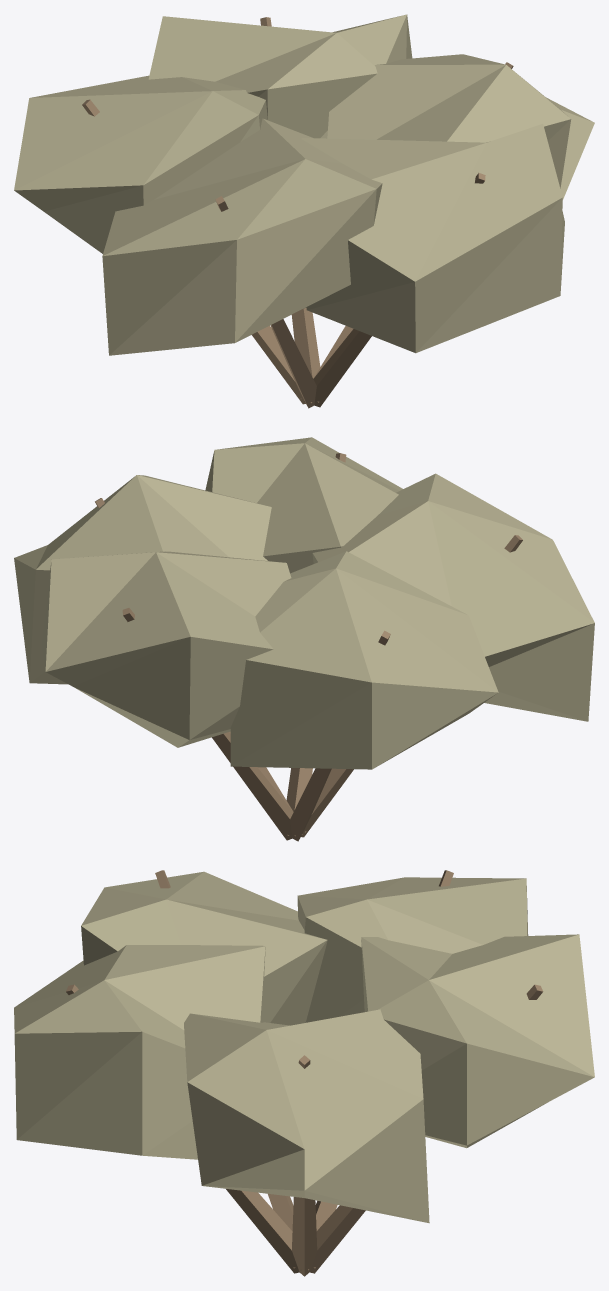
3 renders of one model, top to bottom at view 1: azimuth 30°, elevation 25°; view 2: azimuth 150°, elevation 25°; view 3: azimuth 270°, elevation 25°, orthographic. The views are drawn at different scales.
Size of the model in its own units: 1.78 by 0.9755 by 1.53.
